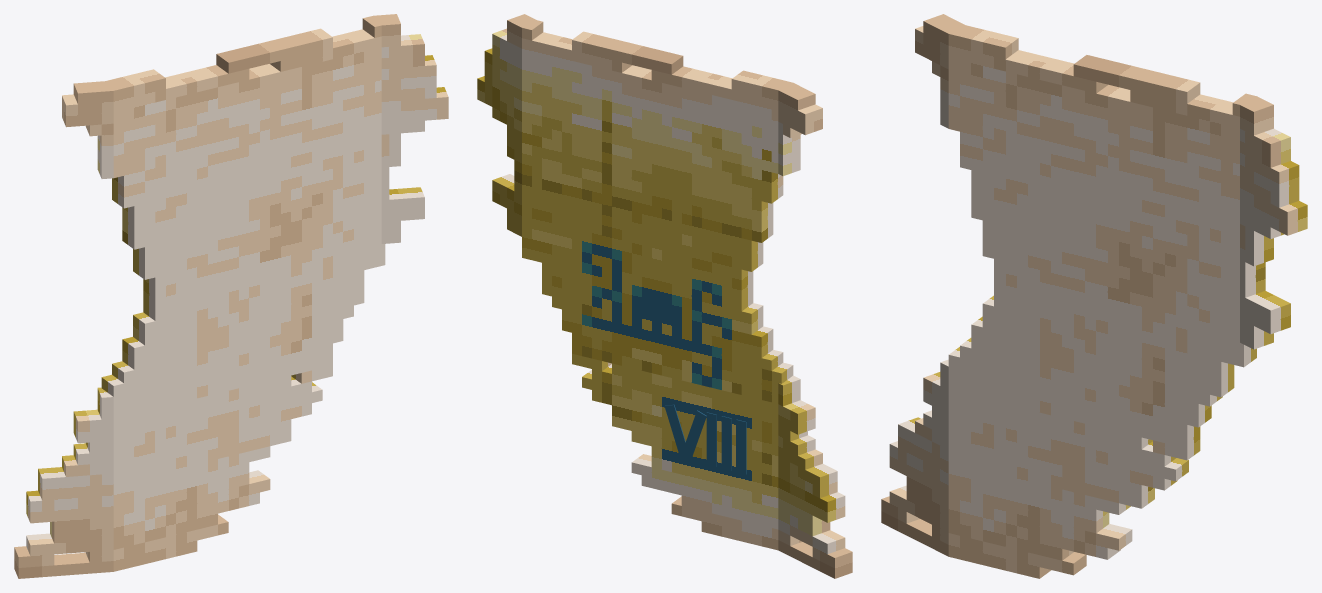
3 renders of one model, left to right at view 1: azimuth 30°, elevation 25°; view 2: azimuth 150°, elevation 25°; view 3: azimuth 330°, elevation 25°, orthographic. The views are drawn at different scales.
Visible parts, largest first — view 1: MapCenter$$(3)-Local, MapLeft$$(3)-Local, MapRight$$(3)-Local; view 2: MapCenter$$(3)-Local, MapLeft$$(3)-Local, MapRight$$(3)-Local, II-Local, III-Local, I-Local, V02-Local, V01-Local; view 3: MapCenter$$(3)-Local, MapRight$$(3)-Local, MapLeft$$(3)-Local.
Part boxes in pixels (x1,y1,x2,y2): MapCenter$$(3)-Local: (101,16,385,571); MapLeft$$(3)-Local: (14,81,113,578); MapRight$$(3)-Local: (373,14,448,243); MapCenter$$(3)-Local: (522,20,793,550); MapLeft$$(3)-Local: (776,82,852,578); MapRight$$(3)-Local: (477,14,539,236); II-Local: (721,416,731,470); III-Local: (736,419,746,474); I-Local: (706,412,716,467); V02-Local: (681,410,706,461); V01-Local: (664,404,689,459); MapCenter$$(3)-Local: (948,25,1256,578); MapRight$$(3)-Local: (1237,96,1307,349); MapLeft$$(3)-Local: (881,14,968,556).
Size of the model in its own units: 39.16 by 44 by 6.55.
8 materials, 8 textured.
